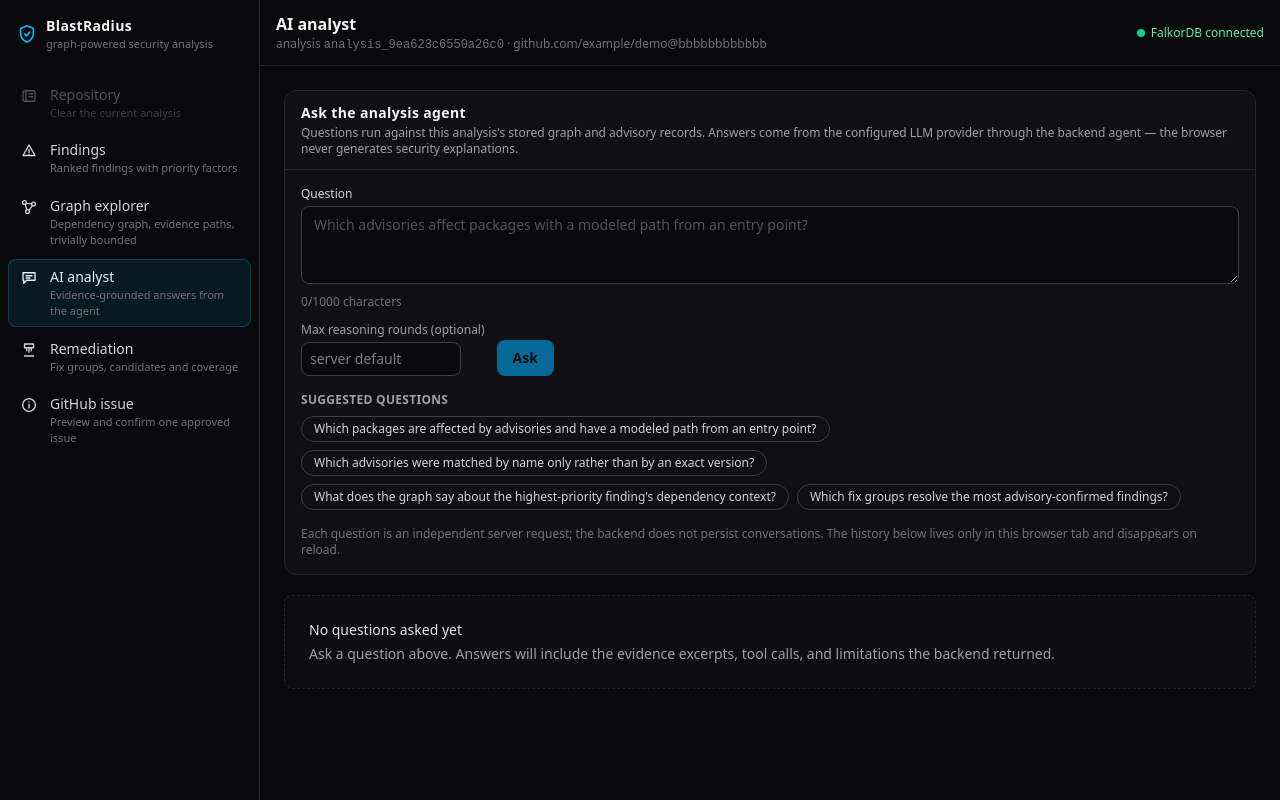
Test: Screen D — evidence-grounded analyst › offers suggested questions as real prompts
Expected: the text "No questions asked yet" is shown, 309,620 -> 462,639
Click the button "Which fix groups resolve the most advisory-confirmed findings?" at (989, 497), box 797,484 -> 1181,510
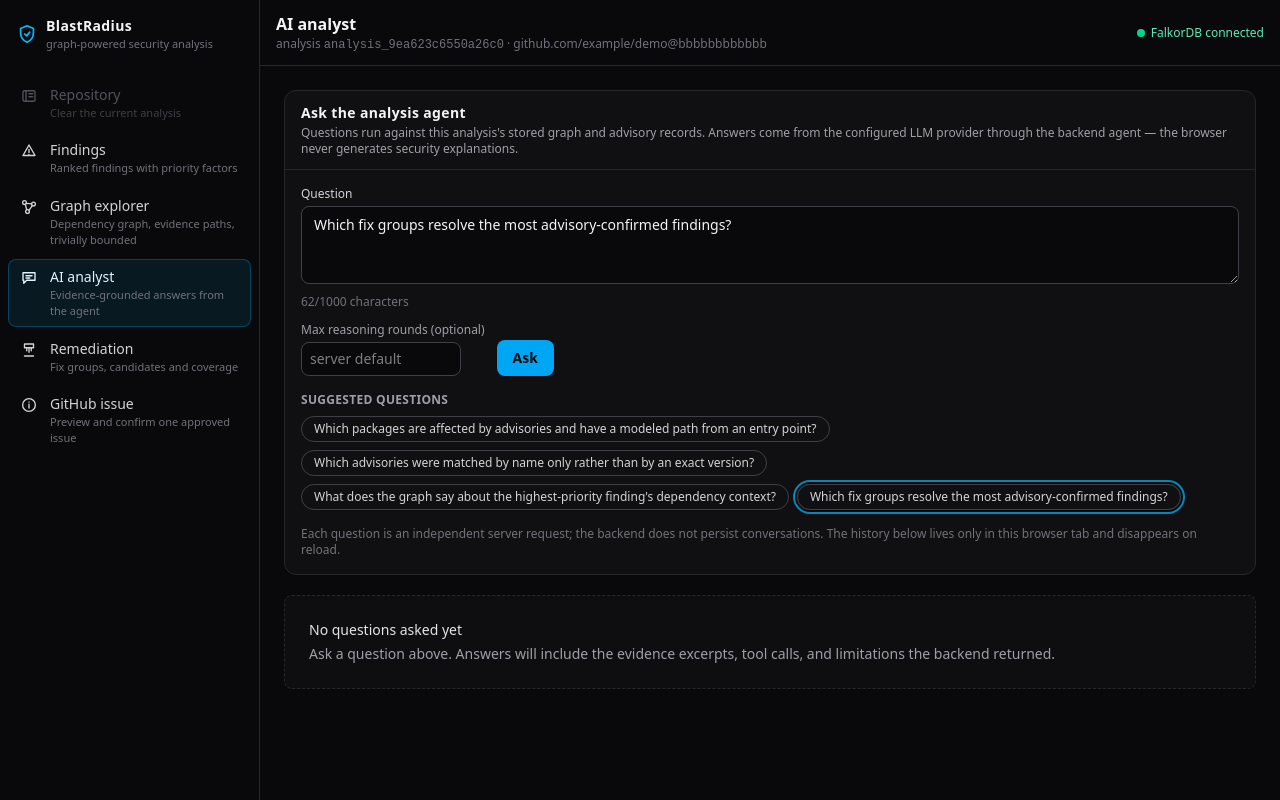
Expected: the text box labelled "Question" holds "Which fix groups resolve the most advisory-confirmed findings?", 301,206 -> 1239,284
